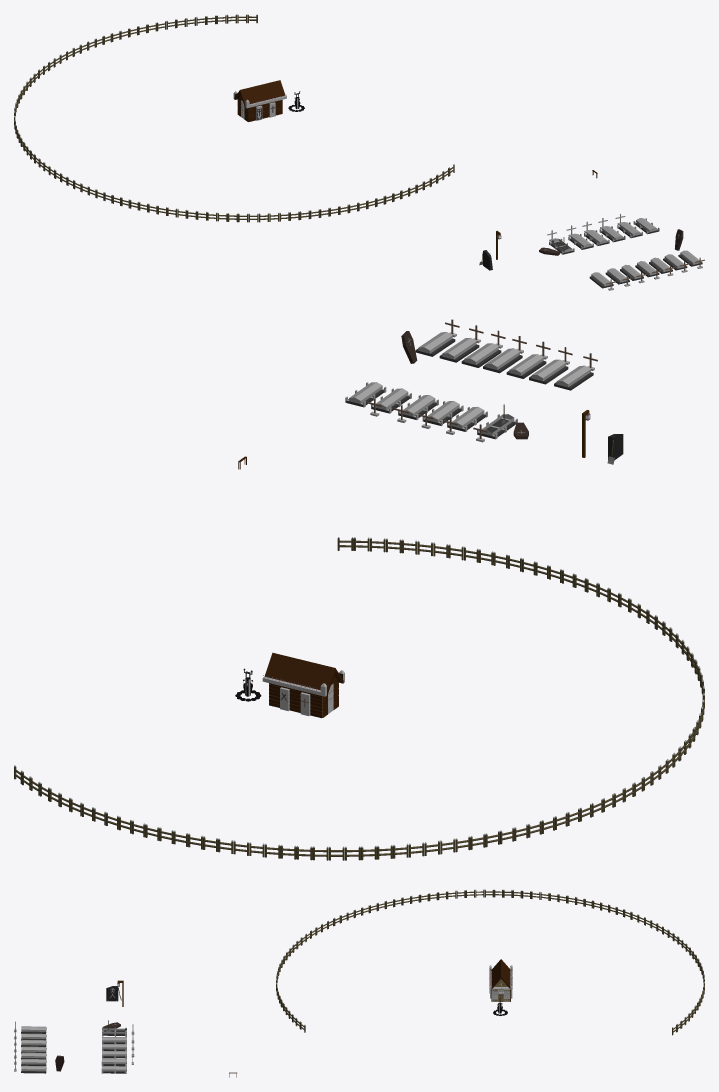
The model's file is Graves.fbx.
3 renders of one model, top to bottom at view 1: azimuth 30°, elevation 25°; view 2: azimuth 150°, elevation 25°; view 3: azimuth 270°, elevation 25°, orthographic. The views are drawn at different scales.
Visible parts, largest first — view 1: Cube.006, Church; view 2: Cube.006, Church; view 3: Cube.006, Church.
Part boxes in pixels (x1=…): Cube.006: x1=14, y1=14, x2=454, y2=222; Church: x1=233, y1=80, x2=286, y2=121; Cube.006: x1=14, y1=537, x2=704, y2=860; Church: x1=262, y1=652, x2=344, y2=718; Cube.006: x1=276, y1=889, x2=704, y2=1035; Church: x1=489, y1=959, x2=512, y2=1001.
Size of the model in its own units: 9691 by 727 by 15656.
